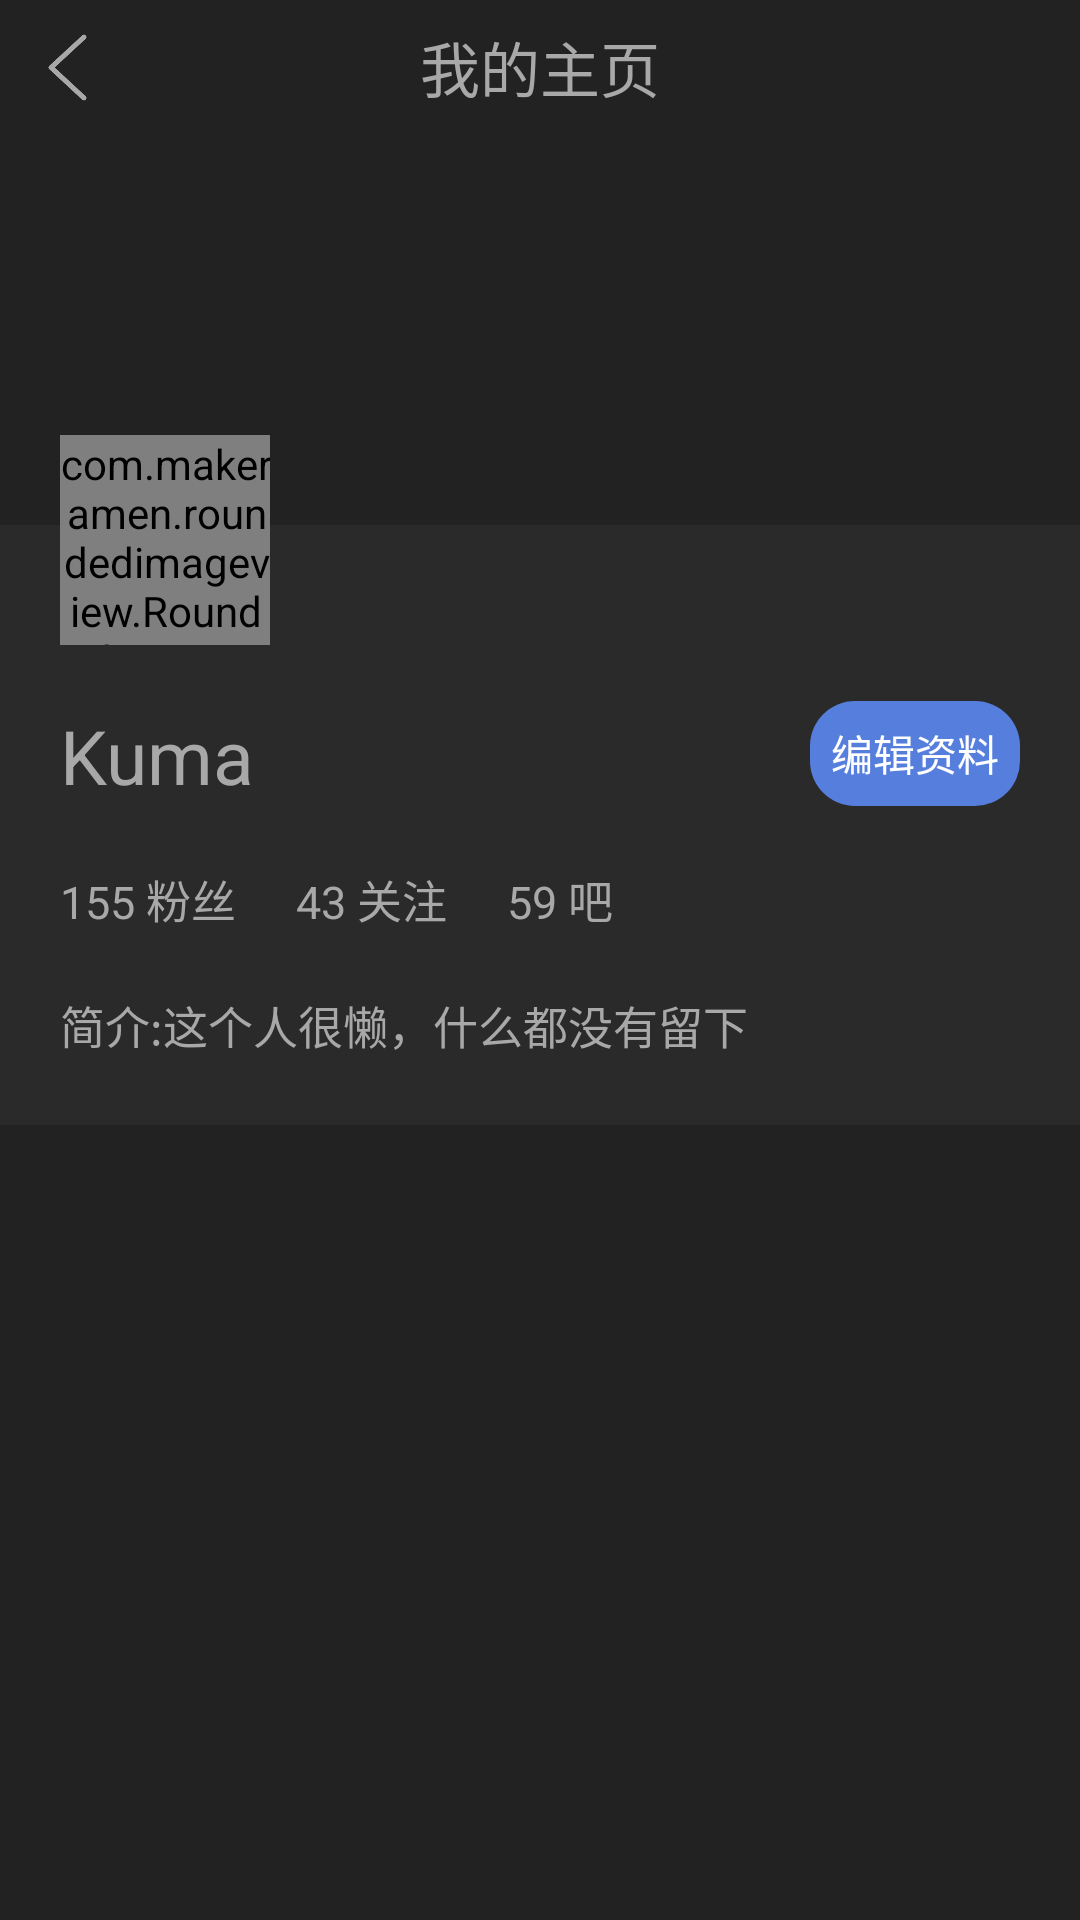

Icon click points for this 1080px×1920px phone screenshot, format (x=x, y=y):
ba home return: (x=67, y=67)
